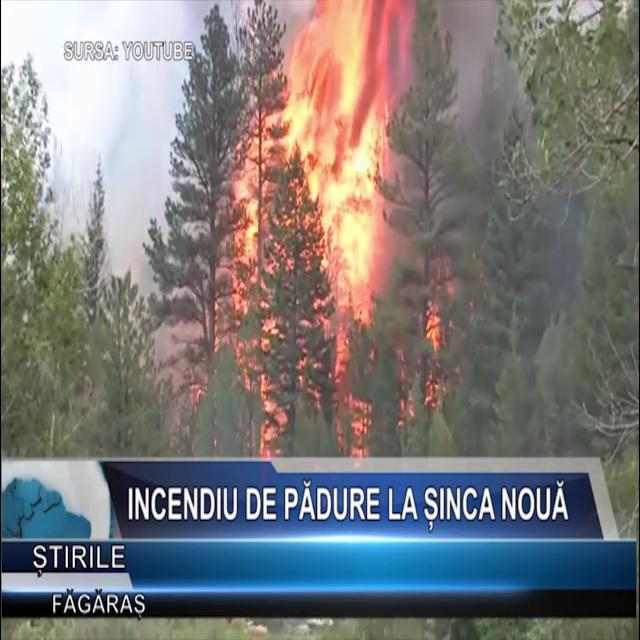Fire: (228, 1, 416, 311)
